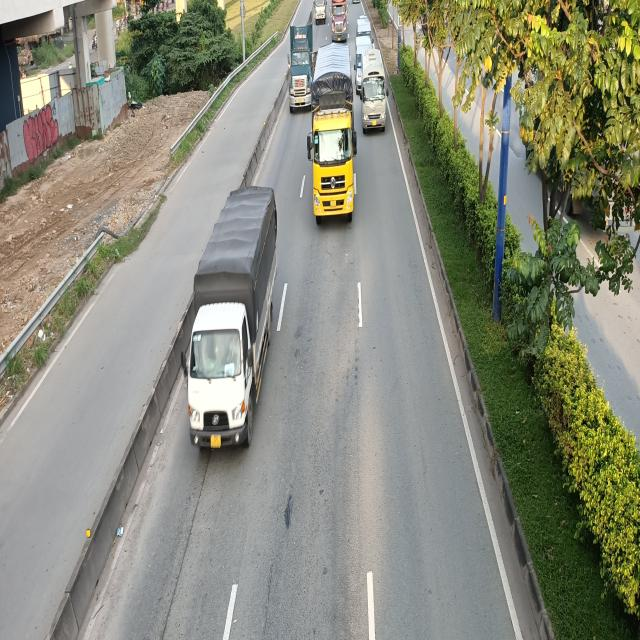coach: (362, 50, 386, 132)
container: (287, 0, 315, 110), (330, 0, 349, 41)
truck: (183, 185, 280, 452), (310, 47, 360, 224)
van: (357, 15, 372, 42)
